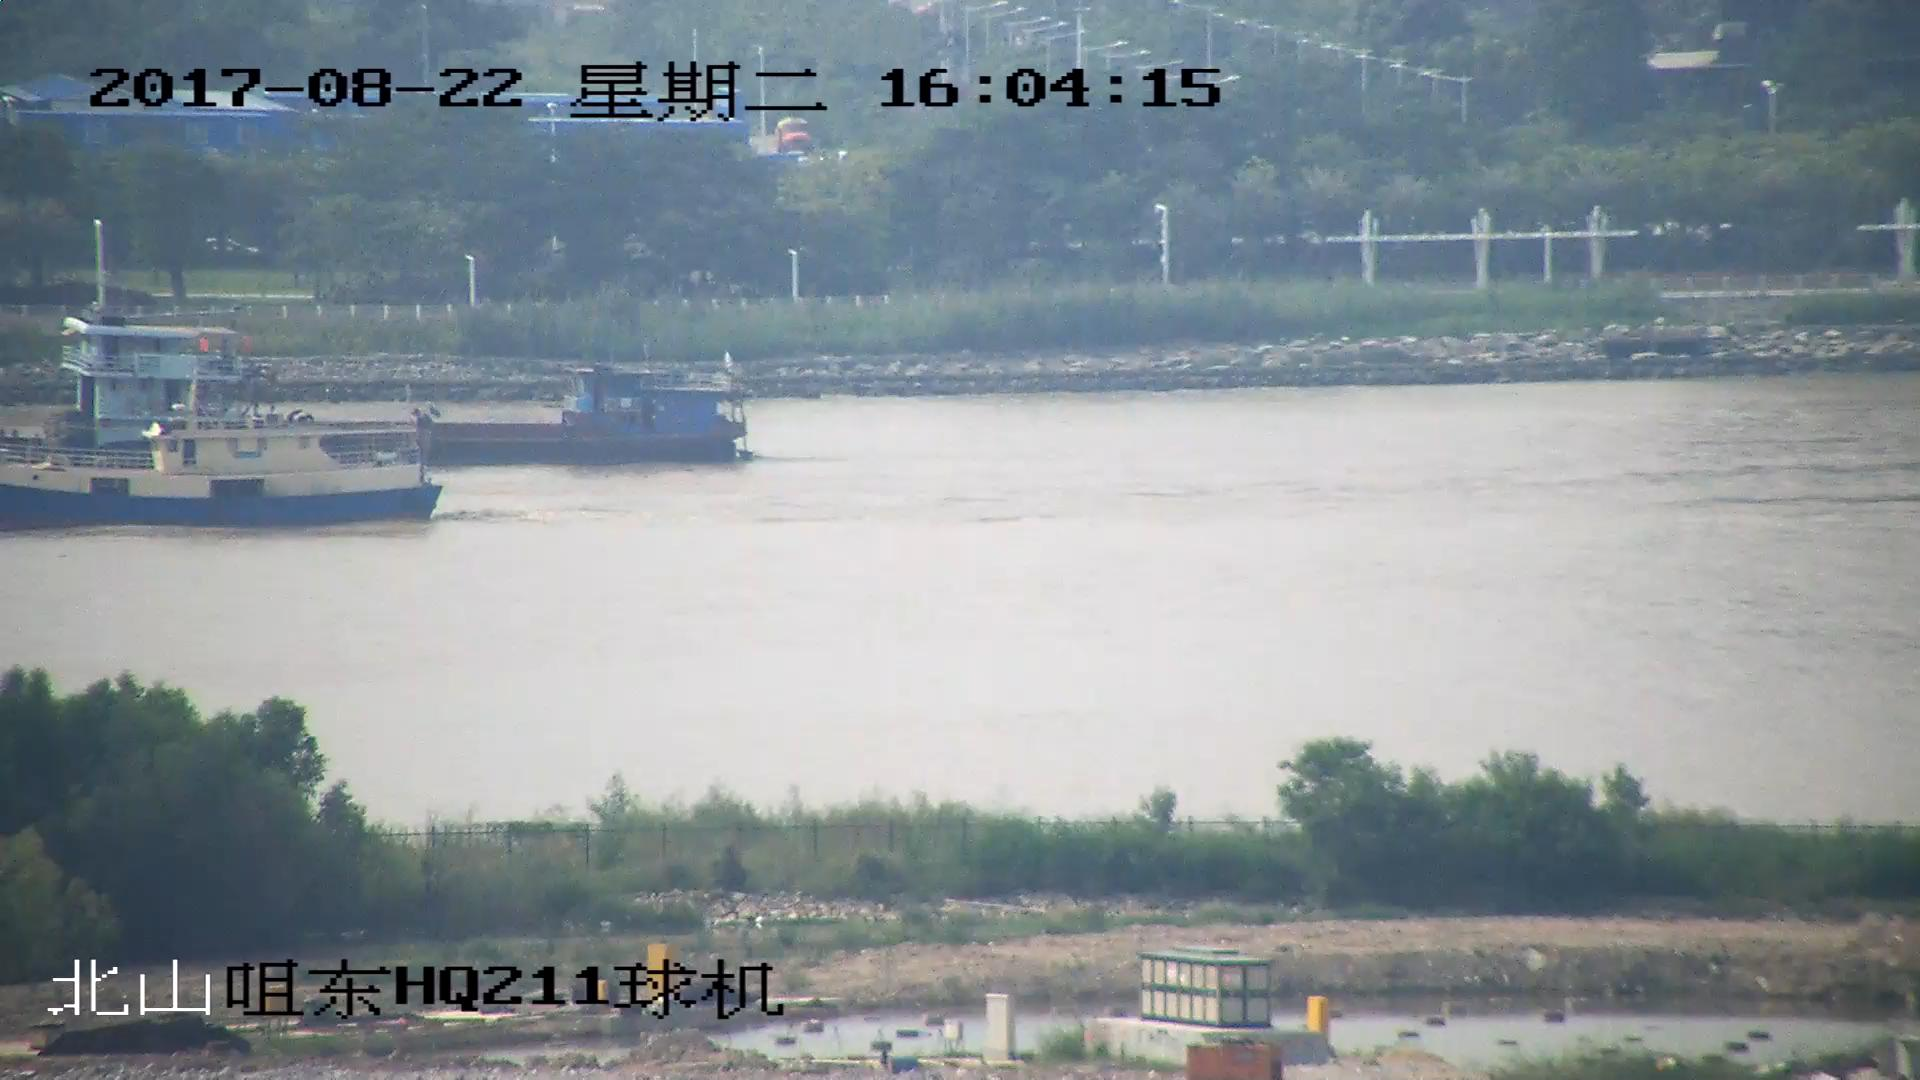bulk cargo carrier: (136, 359, 755, 476)
fishing boat: (1, 343, 450, 529)
